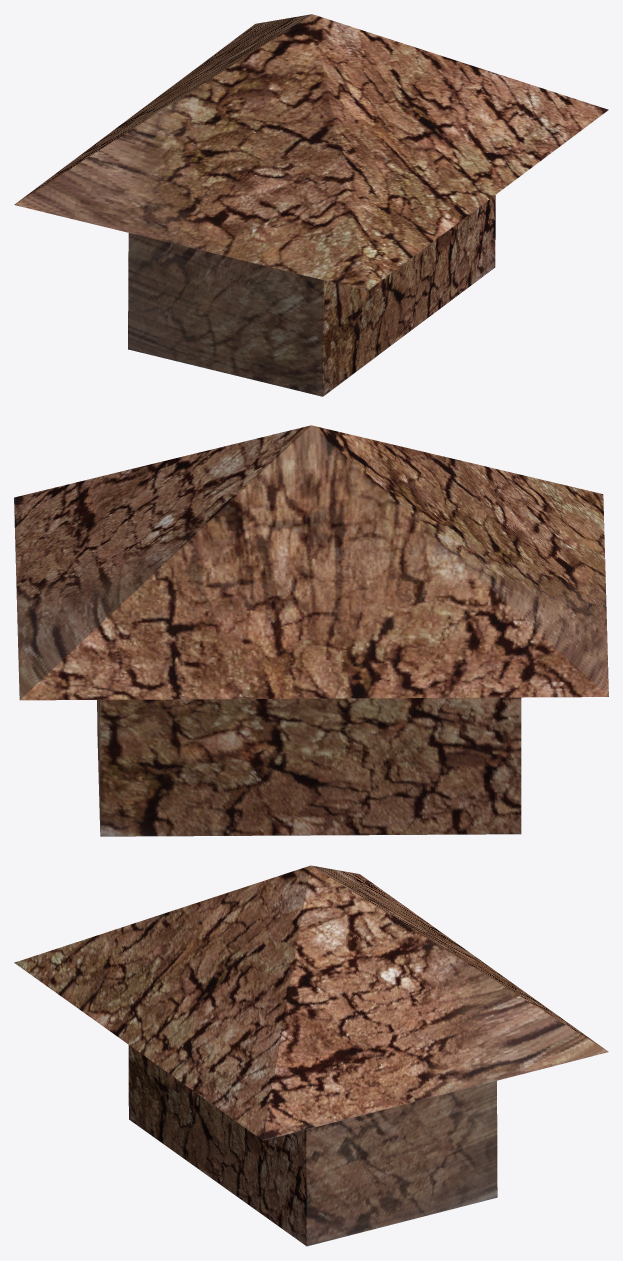
The model's file is hus2.fbx.
The picture shows the model from 3 angles, top to bottom: view 1: azimuth 30°, elevation 25°; view 2: azimuth 150°, elevation 25°; view 3: azimuth 270°, elevation 25°; orthographic projection. The views are drawn at different scales.
Parts seen in each view (by area): view 1: node_id3; view 2: node_id3; view 3: node_id3.
Boxes of the visible parts, x1,y1,x2,y2 form: node_id3: [14, 14, 608, 396]; node_id3: [14, 425, 608, 836]; node_id3: [14, 865, 608, 1246].
Bounding box in the file's own units: 0.6555 × 0.3395 × 0.6238.
1 material, 1 textured.
